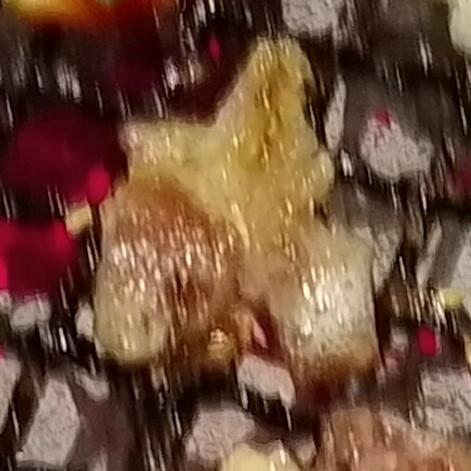Overcooked: (94, 35, 376, 423)
